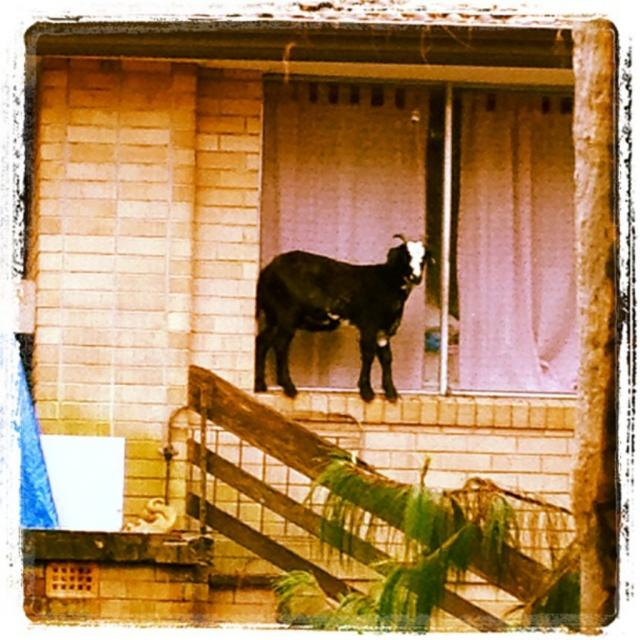Goat: (250, 238, 432, 408)
